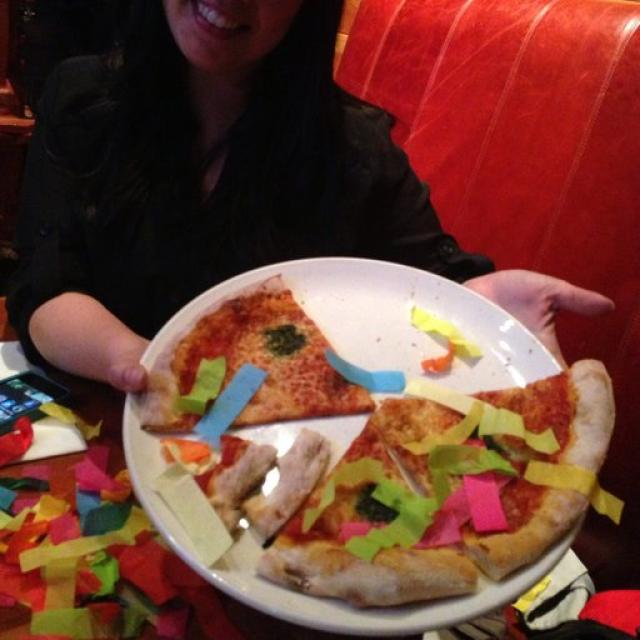Pizza: (258, 361, 612, 605), (142, 284, 374, 446), (209, 429, 331, 539)
